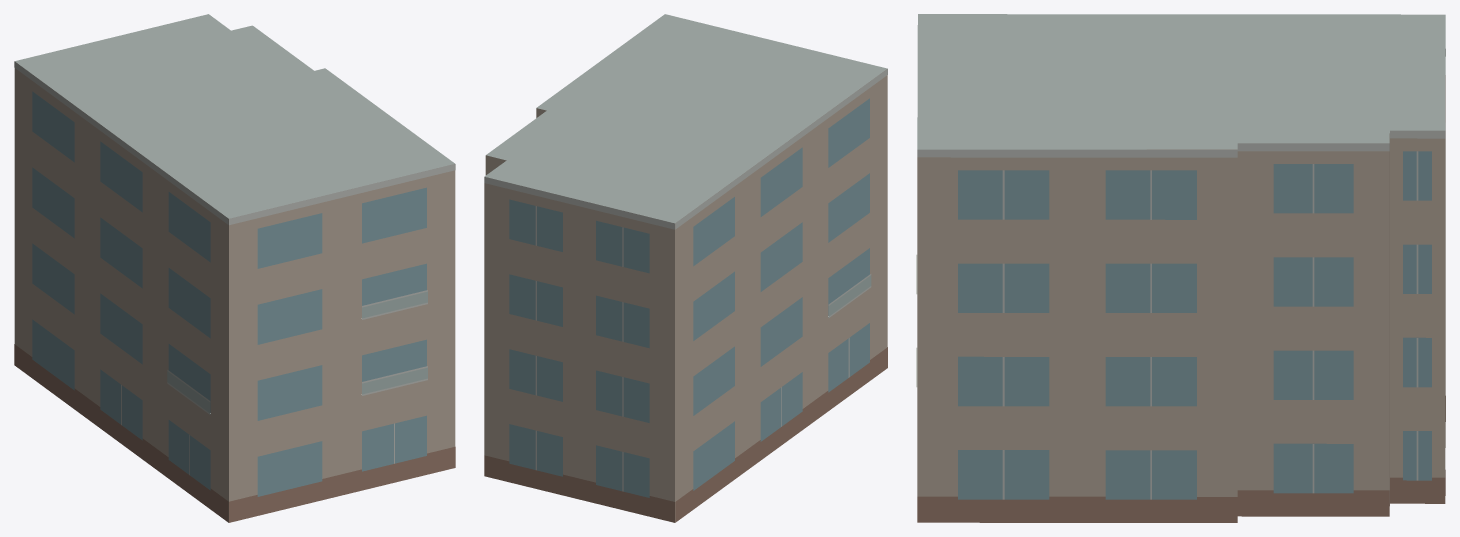
File: survey-upis-32692381.glb
3 renders of one model, left to right at view 1: azimuth 30°, elevation 25°; view 2: azimuth 150°, elevation 25°; view 3: azimuth 270°, elevation 25°, orthographic. The views are drawn at different scales.
Parts seen in each view (by area): view 1: survey-upis-32692381.tmp; view 2: survey-upis-32692381.tmp; view 3: survey-upis-32692381.tmp.
Boxes of the visible parts, x1,y1,x2,y2 form: survey-upis-32692381.tmp: [14, 14, 455, 522]; survey-upis-32692381.tmp: [484, 14, 887, 522]; survey-upis-32692381.tmp: [916, 14, 1445, 522].
Size of the model in its own units: 9.01 by 11.49 by 14.79.
